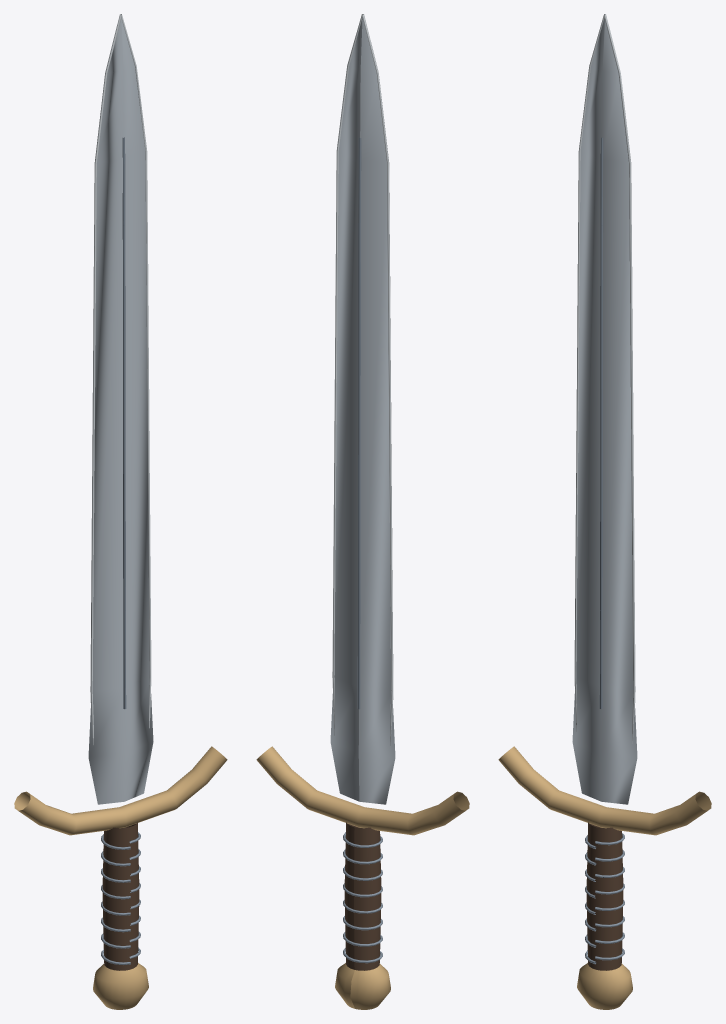
Rendered from steel_sword.glb.
The picture shows the model from 3 angles, left to right: view 1: azimuth 30°, elevation 25°; view 2: azimuth 150°, elevation 25°; view 3: azimuth 330°, elevation 25°; orthographic projection.
Parts seen in each view (by area): view 1: double_edged_blade, curved_crossguard, grip_leather, blade_bevel (×2), pommel, blade_fuller; view 2: double_edged_blade, curved_crossguard, grip_leather, blade_bevel (×2), pommel, blade_fuller; view 3: double_edged_blade, curved_crossguard, grip_leather, blade_bevel (×2), pommel, blade_fuller.
Part boxes in pixels (bbox=[...]): double_edged_blade: bbox=[88, 14, 153, 804]; curved_crossguard: bbox=[14, 746, 227, 835]; grip_leather: bbox=[102, 822, 139, 970]; blade_bevel (×2): bbox=[90, 14, 151, 744]; pommel: bbox=[93, 963, 148, 1009]; blade_fuller: bbox=[122, 137, 126, 709]; double_edged_blade: bbox=[330, 14, 395, 804]; curved_crossguard: bbox=[256, 746, 469, 835]; grip_leather: bbox=[344, 822, 381, 970]; blade_bevel (×2): bbox=[332, 14, 393, 745]; pommel: bbox=[335, 963, 390, 1009]; blade_fuller: bbox=[357, 137, 361, 709]; double_edged_blade: bbox=[572, 14, 637, 804]; curved_crossguard: bbox=[498, 746, 711, 835]; grip_leather: bbox=[586, 822, 623, 970]; blade_bevel (×2): bbox=[574, 14, 635, 743]; pommel: bbox=[577, 963, 632, 1009]; blade_fuller: bbox=[599, 137, 603, 709].
Size of the model in its own units: 0.1994 by 0.9063 by 0.042.
